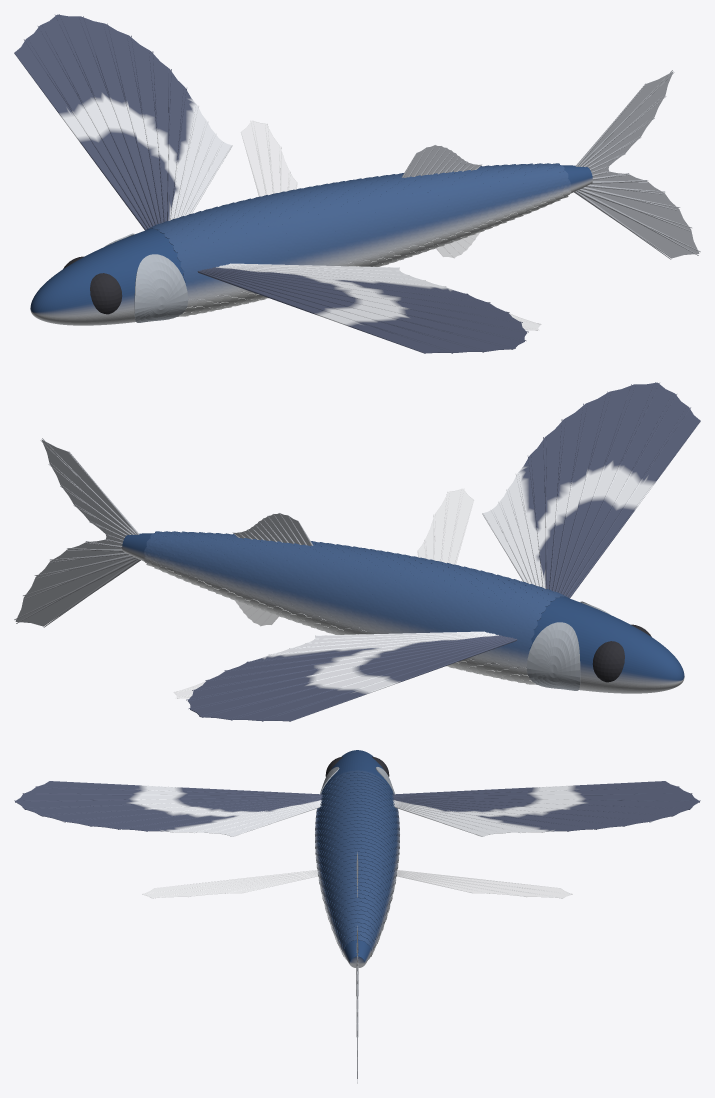
File: fish-adult-fao.glb
3 views of the same model, one above another, from view 1: azimuth 30°, elevation 25°; view 2: azimuth 150°, elevation 25°; view 3: azimuth 270°, elevation 25° (orthographic). The views are drawn at different scales.
Parts seen in each view (by area): view 1: scales, pectoral_L, pectoral_R, caudal, body, operculum_R, pelvic_L, dorsal, eye_R; view 2: scales, pectoral_R, pectoral_L, caudal, body, operculum_L, pelvic_R, dorsal, eye_L; view 3: scales, pectoral_L, pectoral_R, body, pelvic_L, pelvic_R.
Boxes of the visible parts, <box> form: scales: <box>145,163,571,316</box>; pectoral_L: <box>14,14,232,230</box>; pectoral_R: <box>197,263,528,353</box>; caudal: <box>574,70,700,259</box>; body: <box>30,165,592,325</box>; operculum_R: <box>134,254,188,322</box>; pelvic_L: <box>241,120,297,196</box>; dorsal: <box>401,145,482,177</box>; eye_R: <box>90,273,122,314</box>; scales: <box>143,531,569,684</box>; pectoral_R: <box>482,382,700,598</box>; pectoral_L: <box>186,631,517,721</box>; caudal: <box>14,438,140,627</box>; body: <box>122,533,684,693</box>; operculum_L: <box>526,622,580,690</box>; pelvic_R: <box>417,488,473,564</box>; dorsal: <box>232,513,313,545</box>; eye_L: <box>592,641,624,682</box>; scales: <box>315,770,399,959</box>; pectoral_L: <box>392,781,700,836</box>; pectoral_R: <box>14,781,322,836</box>; body: <box>316,750,398,967</box>; pelvic_L: <box>397,870,572,898</box>; pelvic_R: <box>142,870,317,898</box>.
Bounding box in the file's own units: 0.1912 × 0.0525 × 0.2267.
